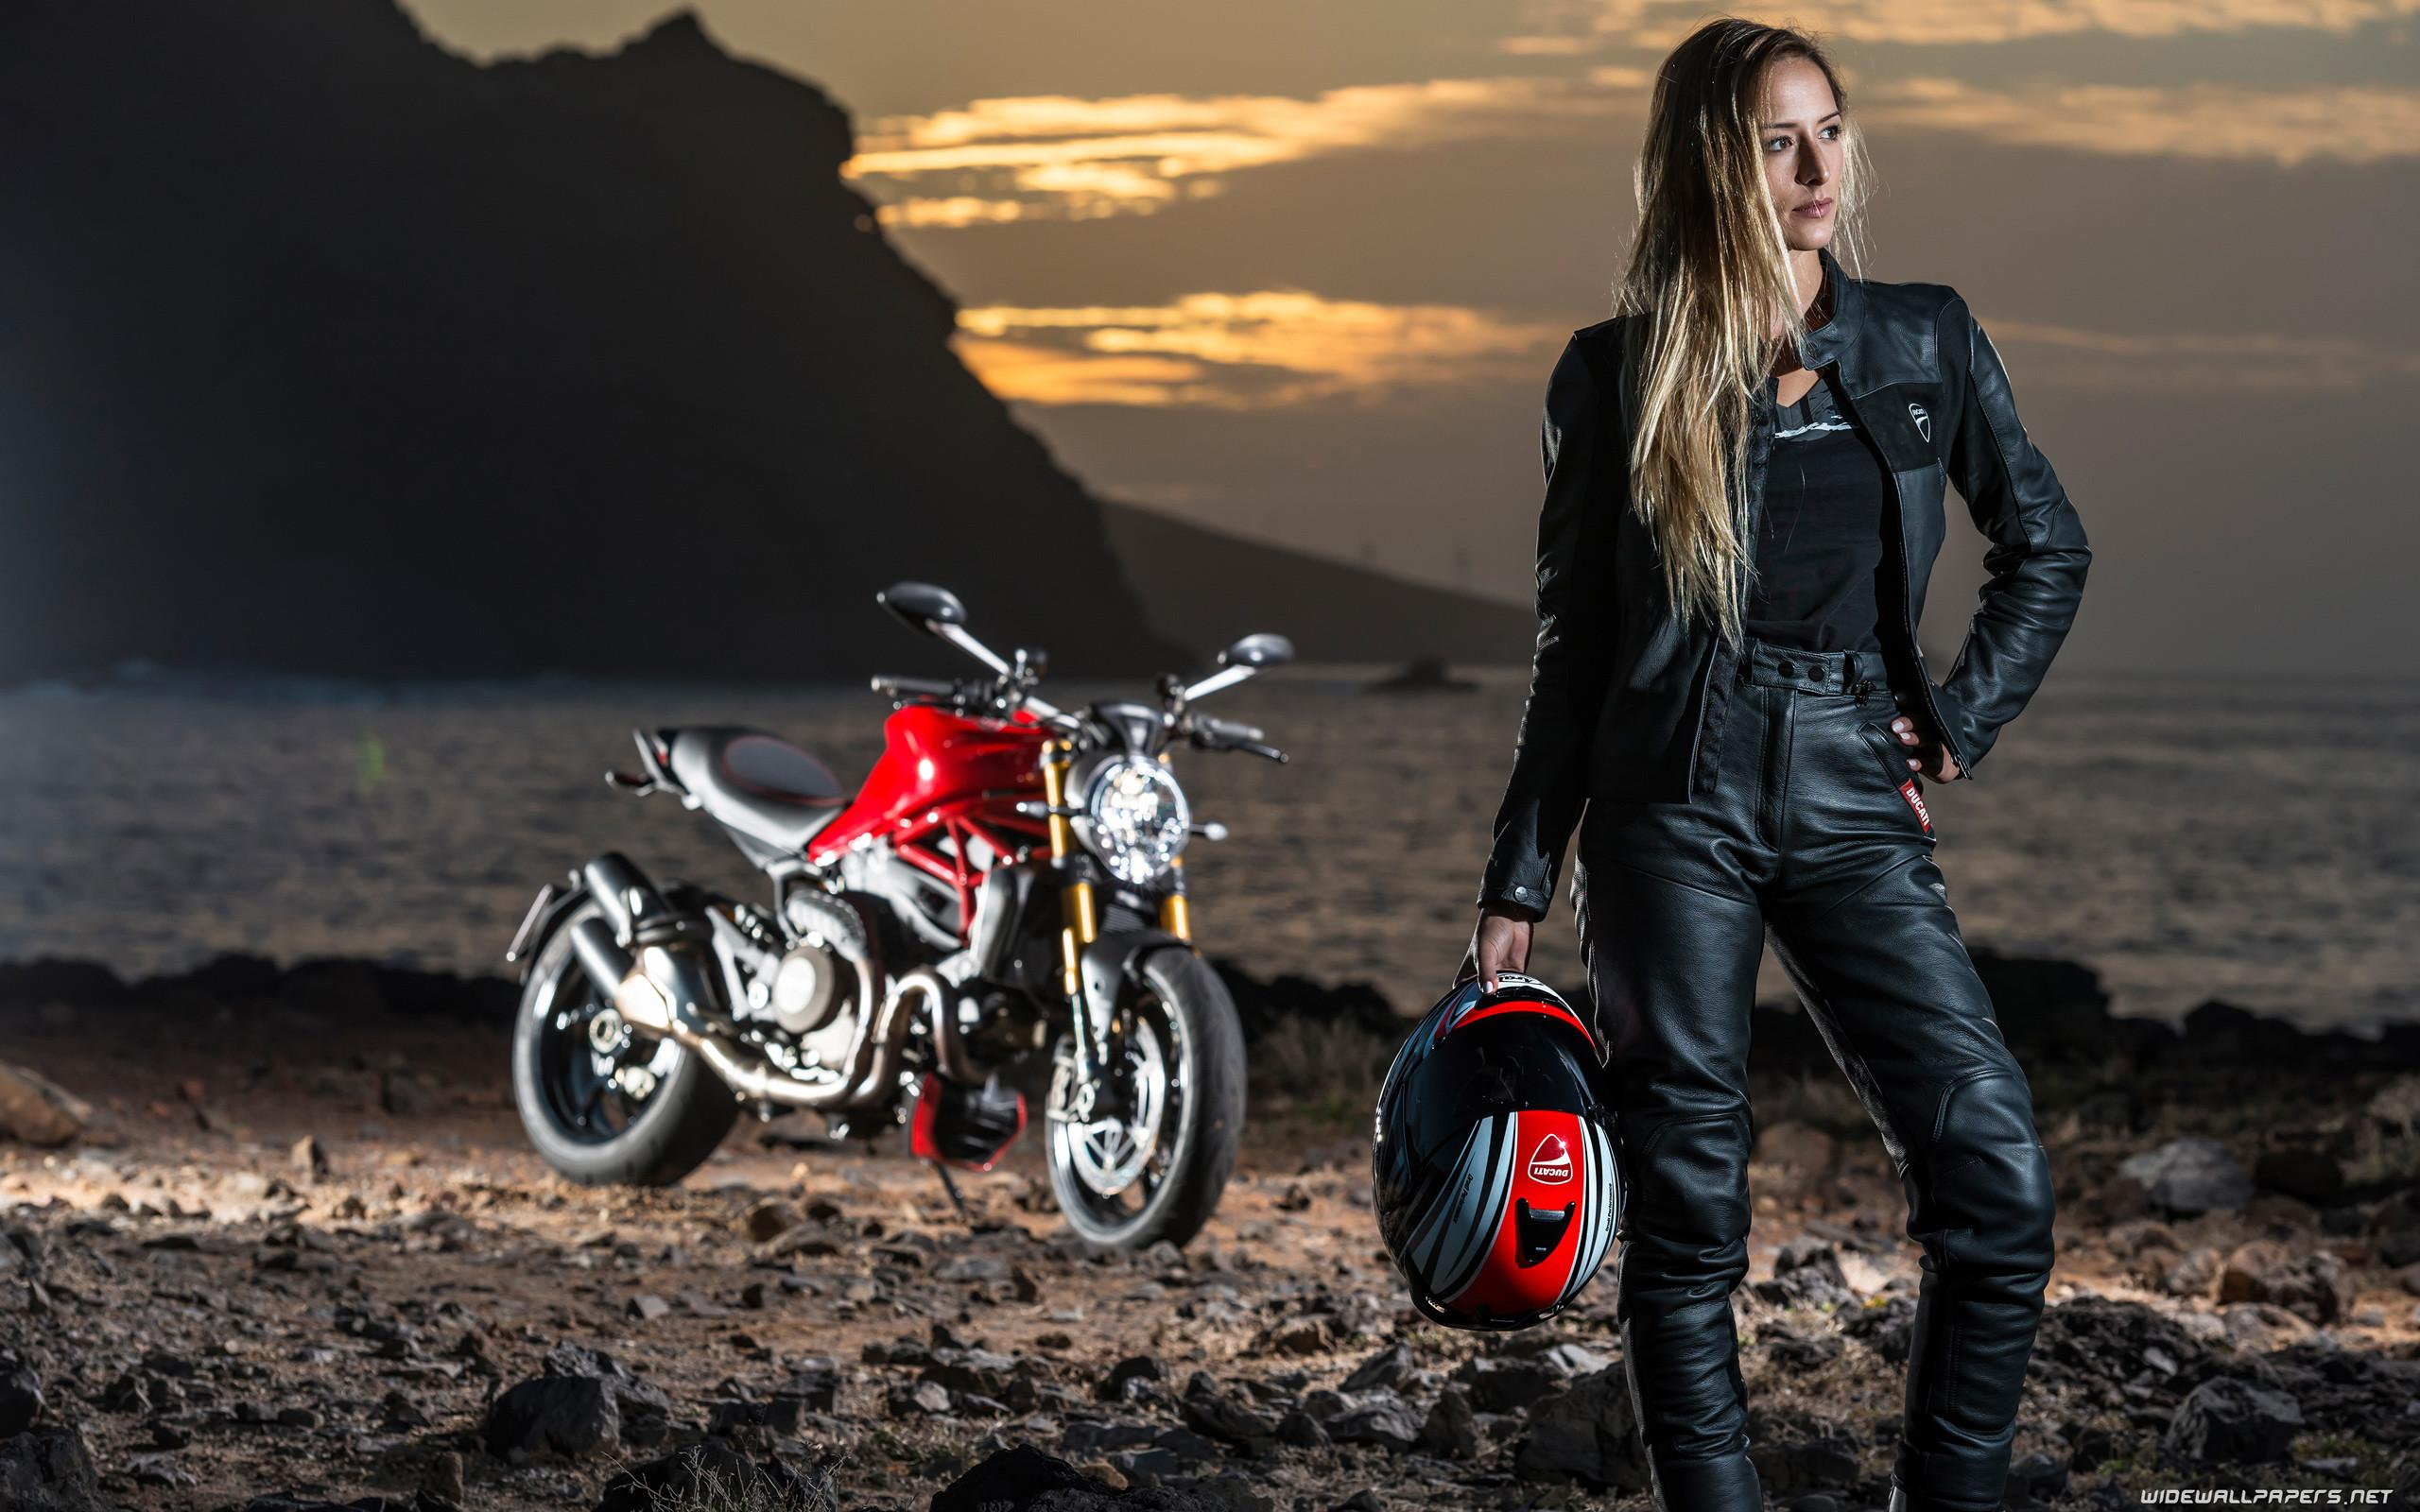Motorcycle: (425, 664, 1314, 1305)
